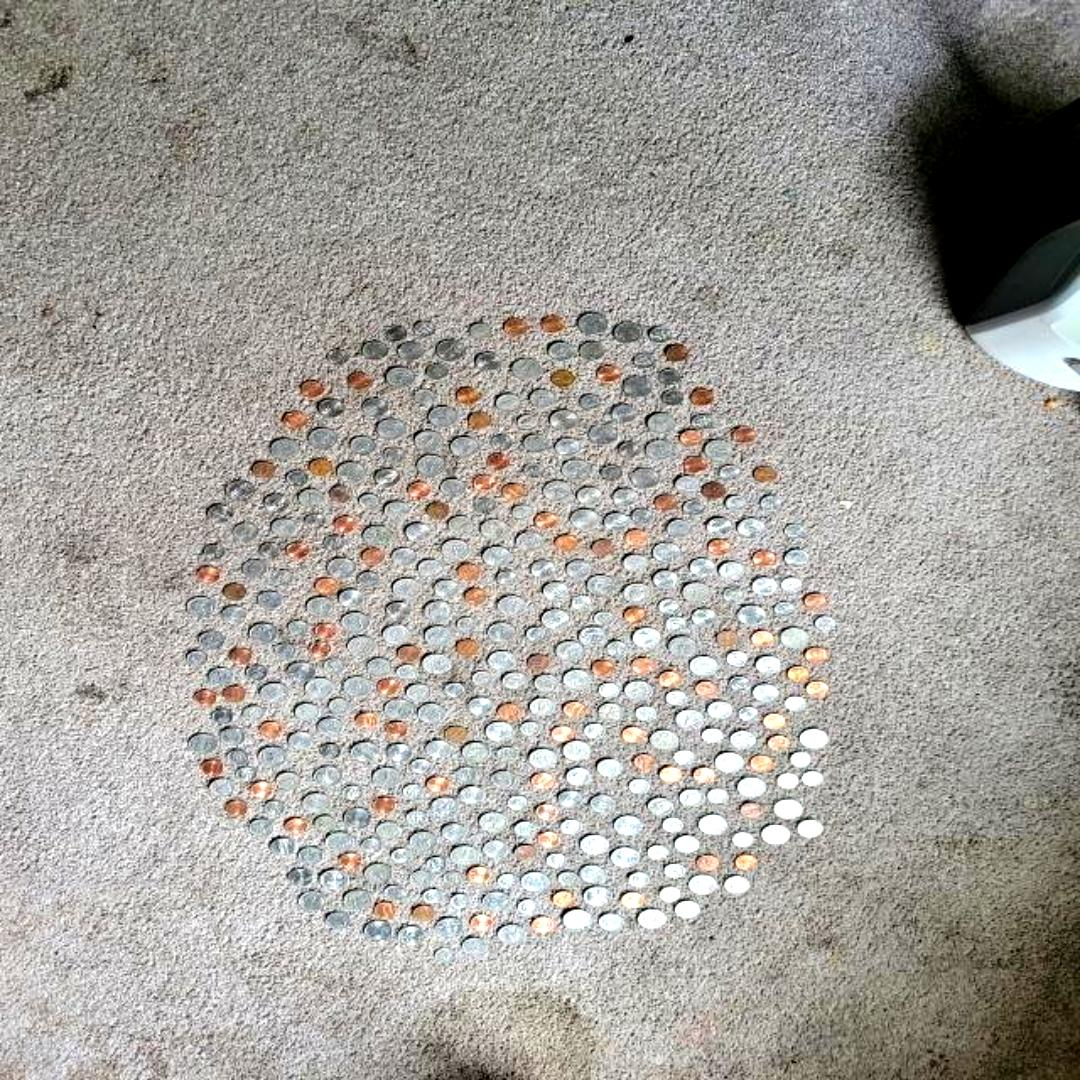Dime: (472, 671, 494, 687), (496, 746, 518, 762), (342, 784, 364, 800), (410, 758, 432, 774), (186, 650, 208, 666), (526, 626, 548, 642), (474, 497, 496, 513), (634, 353, 656, 369), (490, 436, 512, 452), (516, 415, 538, 431), (286, 470, 308, 486), (386, 326, 408, 342), (646, 844, 667, 860), (305, 513, 326, 529), (397, 664, 418, 680), (414, 389, 435, 405), (414, 322, 435, 338), (469, 323, 490, 339), (777, 772, 798, 788), (706, 788, 727, 804), (659, 369, 680, 385), (628, 872, 650, 887), (358, 494, 380, 509), (456, 616, 478, 631), (664, 616, 686, 631), (780, 579, 802, 594), (558, 870, 578, 886), (674, 750, 694, 766), (702, 728, 722, 744), (636, 706, 656, 722), (520, 720, 540, 736), (236, 766, 256, 782), (213, 708, 233, 724), (244, 706, 264, 722), (246, 664, 266, 680), (325, 535, 345, 551), (497, 571, 517, 587), (594, 611, 614, 627), (571, 595, 591, 611), (760, 496, 780, 512), (784, 524, 804, 540), (692, 414, 712, 430), (662, 390, 682, 406), (602, 465, 622, 481), (649, 327, 669, 343), (802, 771, 822, 787), (733, 832, 753, 848), (790, 751, 810, 767), (723, 587, 743, 603), (727, 497, 748, 512), (720, 465, 741, 480), (659, 886, 680, 901), (450, 894, 472, 908), (422, 890, 444, 904), (384, 886, 406, 900), (514, 822, 536, 836), (664, 864, 686, 878), (738, 708, 760, 722), (598, 684, 620, 698), (606, 642, 628, 656), (402, 784, 424, 798), (274, 644, 296, 658), (272, 570, 294, 584), (426, 364, 448, 378), (328, 350, 350, 364), (443, 871, 463, 886), (392, 849, 412, 864), (630, 778, 650, 793), (261, 543, 281, 558), (512, 505, 532, 520), (632, 509, 652, 524), (580, 395, 600, 410), (814, 616, 834, 631), (560, 820, 581, 834), (662, 818, 683, 832), (320, 744, 341, 758), (204, 545, 226, 558), (358, 574, 380, 587), (436, 948, 456, 962), (362, 838, 382, 852), (518, 900, 538, 914), (498, 874, 518, 888), (546, 854, 566, 868), (730, 676, 750, 690), (727, 652, 747, 666), (584, 724, 604, 738), (264, 800, 284, 814), (228, 750, 248, 764), (329, 698, 349, 712), (684, 500, 704, 514), (775, 602, 795, 616), (620, 444, 640, 458), (524, 464, 544, 478), (385, 448, 405, 462), (508, 796, 528, 810), (659, 600, 679, 614), (456, 768, 478, 780), (314, 818, 336, 830), (785, 698, 805, 711), (666, 691, 686, 704), (445, 683, 465, 696), (427, 858, 445, 872), (323, 660, 344, 672), (287, 622, 308, 634), (406, 812, 426, 824)
Nickel: (286, 731, 316, 751), (404, 522, 432, 542), (232, 523, 260, 543), (366, 657, 394, 677), (350, 436, 377, 456), (610, 404, 637, 424), (269, 836, 296, 856), (476, 352, 502, 372), (604, 512, 630, 532), (242, 559, 268, 579), (530, 697, 556, 717), (374, 469, 402, 487), (206, 506, 234, 524), (208, 667, 236, 685), (220, 728, 248, 746), (460, 938, 488, 956), (579, 343, 606, 361), (719, 562, 746, 580), (426, 740, 453, 758), (706, 701, 733, 719), (210, 778, 237, 796), (408, 870, 435, 888), (598, 913, 625, 931), (440, 478, 464, 498), (442, 823, 466, 843), (388, 743, 412, 763), (398, 343, 424, 361), (362, 342, 388, 360), (362, 399, 388, 417), (496, 394, 522, 412), (524, 435, 550, 453), (566, 561, 592, 579), (530, 561, 556, 579), (338, 589, 364, 607), (318, 718, 344, 736), (674, 476, 700, 494), (468, 697, 494, 715), (796, 820, 822, 838), (596, 759, 622, 777), (614, 489, 640, 507), (298, 489, 324, 507), (384, 501, 410, 519), (666, 520, 691, 538), (579, 864, 604, 882), (725, 876, 750, 894), (256, 592, 284, 608), (198, 632, 226, 648), (248, 820, 276, 836), (550, 343, 574, 361), (530, 390, 554, 408), (556, 439, 580, 457), (578, 487, 602, 505), (624, 555, 648, 573), (692, 609, 716, 627), (752, 577, 776, 595), (392, 548, 416, 566), (266, 495, 290, 513), (434, 580, 458, 598), (418, 560, 442, 578), (448, 517, 472, 535), (504, 672, 528, 690), (756, 656, 780, 674), (680, 789, 704, 807), (647, 799, 674, 815), (566, 767, 590, 785), (460, 786, 484, 804), (376, 822, 400, 840), (326, 912, 350, 930), (676, 901, 700, 919), (784, 550, 808, 568), (288, 869, 312, 887), (558, 791, 582, 809), (674, 835, 698, 853), (730, 731, 754, 749), (534, 674, 558, 692), (654, 571, 678, 589), (690, 558, 714, 576), (708, 518, 732, 536), (272, 519, 296, 537), (222, 607, 248, 623), (406, 685, 432, 701), (752, 685, 778, 701), (482, 841, 508, 857), (298, 848, 324, 864), (276, 772, 302, 788), (598, 704, 624, 720), (386, 603, 412, 619), (544, 583, 568, 599), (296, 704, 320, 720), (590, 796, 614, 812), (492, 772, 516, 788), (320, 400, 344, 416)
Penny: (338, 851, 362, 869), (300, 382, 326, 398), (696, 855, 722, 871), (470, 913, 492, 931), (736, 853, 758, 871), (552, 371, 576, 387), (752, 551, 776, 567), (426, 502, 450, 518), (360, 549, 384, 565), (222, 583, 246, 599), (194, 690, 218, 706), (762, 713, 786, 729), (658, 767, 682, 783), (632, 754, 656, 770), (534, 804, 558, 820), (536, 832, 560, 848), (426, 777, 450, 793), (200, 760, 224, 776), (224, 800, 248, 816), (284, 818, 308, 834), (466, 867, 490, 883), (514, 846, 538, 862), (624, 607, 645, 625), (414, 905, 435, 923), (505, 319, 528, 335), (542, 317, 565, 333), (282, 412, 305, 428), (308, 459, 331, 475), (472, 475, 495, 491), (704, 483, 727, 499), (334, 516, 357, 532), (197, 567, 220, 583), (308, 642, 331, 658), (377, 679, 400, 695), (223, 686, 246, 702), (806, 681, 829, 697), (631, 658, 654, 674), (768, 735, 791, 751), (749, 756, 772, 772), (551, 726, 574, 742), (740, 803, 763, 819), (373, 798, 396, 814), (622, 892, 645, 908), (446, 725, 466, 743), (456, 388, 478, 404), (348, 373, 370, 389), (468, 413, 490, 429), (488, 454, 510, 470), (252, 462, 274, 478), (330, 486, 352, 502), (408, 482, 430, 498), (502, 484, 524, 500), (708, 540, 730, 556), (554, 535, 576, 551), (286, 543, 308, 559), (458, 564, 480, 580), (316, 578, 338, 594), (316, 623, 338, 639), (230, 648, 252, 664), (456, 640, 478, 656), (532, 772, 554, 788), (386, 722, 408, 738), (356, 712, 378, 728), (260, 722, 282, 738), (250, 781, 272, 797), (374, 902, 396, 918), (532, 917, 554, 933), (681, 430, 702, 446), (684, 456, 705, 472), (397, 646, 418, 662), (805, 594, 826, 610), (466, 589, 487, 605), (805, 648, 826, 664), (659, 671, 680, 687), (623, 726, 644, 742), (552, 891, 573, 907), (734, 427, 754, 443), (692, 389, 712, 405), (668, 346, 688, 362), (598, 367, 618, 383), (656, 496, 676, 512), (626, 530, 646, 546), (593, 540, 613, 556), (536, 513, 556, 529), (716, 630, 736, 646), (752, 631, 772, 647), (788, 665, 808, 681), (696, 681, 716, 697), (592, 660, 612, 676), (528, 655, 548, 671), (694, 768, 714, 784), (564, 701, 584, 717), (498, 703, 518, 719), (755, 466, 776, 481)
Quarter: (377, 418, 407, 440), (622, 376, 652, 398), (549, 410, 579, 432), (588, 424, 618, 446), (414, 430, 444, 452), (578, 313, 608, 334), (571, 509, 601, 530), (186, 596, 216, 617), (301, 792, 331, 813), (614, 322, 642, 344), (437, 340, 465, 362), (309, 428, 337, 450), (705, 440, 733, 462), (761, 824, 789, 846), (250, 624, 280, 644), (772, 798, 802, 818), (386, 367, 416, 387), (428, 407, 458, 427), (270, 440, 300, 460), (336, 462, 366, 482), (630, 468, 660, 488), (225, 482, 255, 502), (623, 584, 653, 604), (440, 539, 470, 559), (422, 654, 452, 674), (347, 637, 377, 657), (362, 526, 392, 546), (287, 662, 317, 682), (188, 734, 218, 754), (257, 747, 287, 767), (344, 889, 374, 909), (364, 863, 394, 883), (430, 797, 460, 817), (562, 741, 592, 761), (698, 814, 728, 834), (714, 752, 744, 772), (610, 847, 640, 867), (648, 414, 676, 435), (562, 459, 590, 480), (646, 440, 674, 461), (392, 579, 420, 600), (410, 830, 438, 851), (638, 909, 666, 930), (484, 890, 510, 912), (541, 609, 569, 629), (799, 729, 827, 749), (512, 360, 540, 380), (418, 455, 446, 475), (451, 437, 479, 457), (543, 481, 571, 501), (781, 628, 809, 648), (738, 605, 766, 625), (682, 582, 710, 602), (653, 543, 681, 563), (738, 518, 766, 538), (587, 576, 615, 596), (690, 657, 718, 677), (668, 636, 696, 656), (633, 628, 661, 648), (579, 627, 607, 647), (556, 641, 584, 661), (563, 670, 591, 690), (625, 680, 653, 700), (488, 651, 516, 671), (488, 623, 516, 643), (498, 596, 526, 616), (483, 547, 511, 567), (516, 532, 544, 552), (480, 519, 508, 539), (425, 601, 453, 621), (424, 626, 452, 646), (383, 624, 411, 644), (328, 558, 356, 578), (341, 613, 369, 633), (306, 598, 334, 618), (306, 678, 334, 698), (260, 683, 288, 703), (384, 699, 412, 719), (486, 722, 514, 742), (675, 709, 703, 729), (314, 766, 342, 786), (373, 768, 401, 788), (344, 808, 372, 828), (326, 832, 354, 852), (320, 870, 348, 890), (298, 891, 326, 911), (480, 812, 508, 832), (462, 743, 490, 763), (529, 749, 557, 769), (450, 846, 478, 866), (580, 835, 608, 855), (614, 815, 642, 835), (737, 777, 765, 797), (498, 925, 526, 945), (437, 917, 465, 937), (398, 926, 426, 946), (365, 921, 393, 941), (418, 704, 448, 722), (689, 875, 716, 895), (344, 676, 370, 696), (352, 743, 378, 763), (522, 872, 548, 892), (562, 909, 588, 929), (584, 886, 610, 906), (650, 730, 676, 748)
